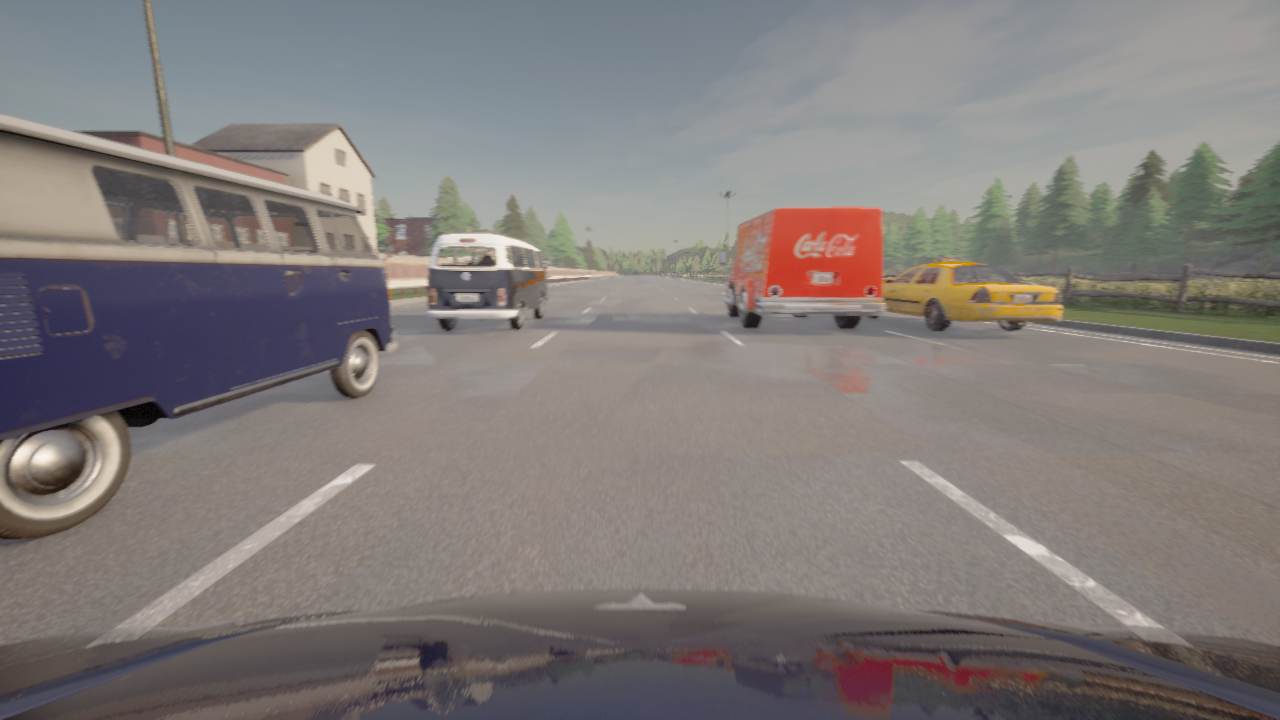cyclist: (0, 588, 1279, 719), (719, 207, 884, 328), (865, 257, 1062, 331), (427, 233, 550, 330), (670, 272, 677, 275)
